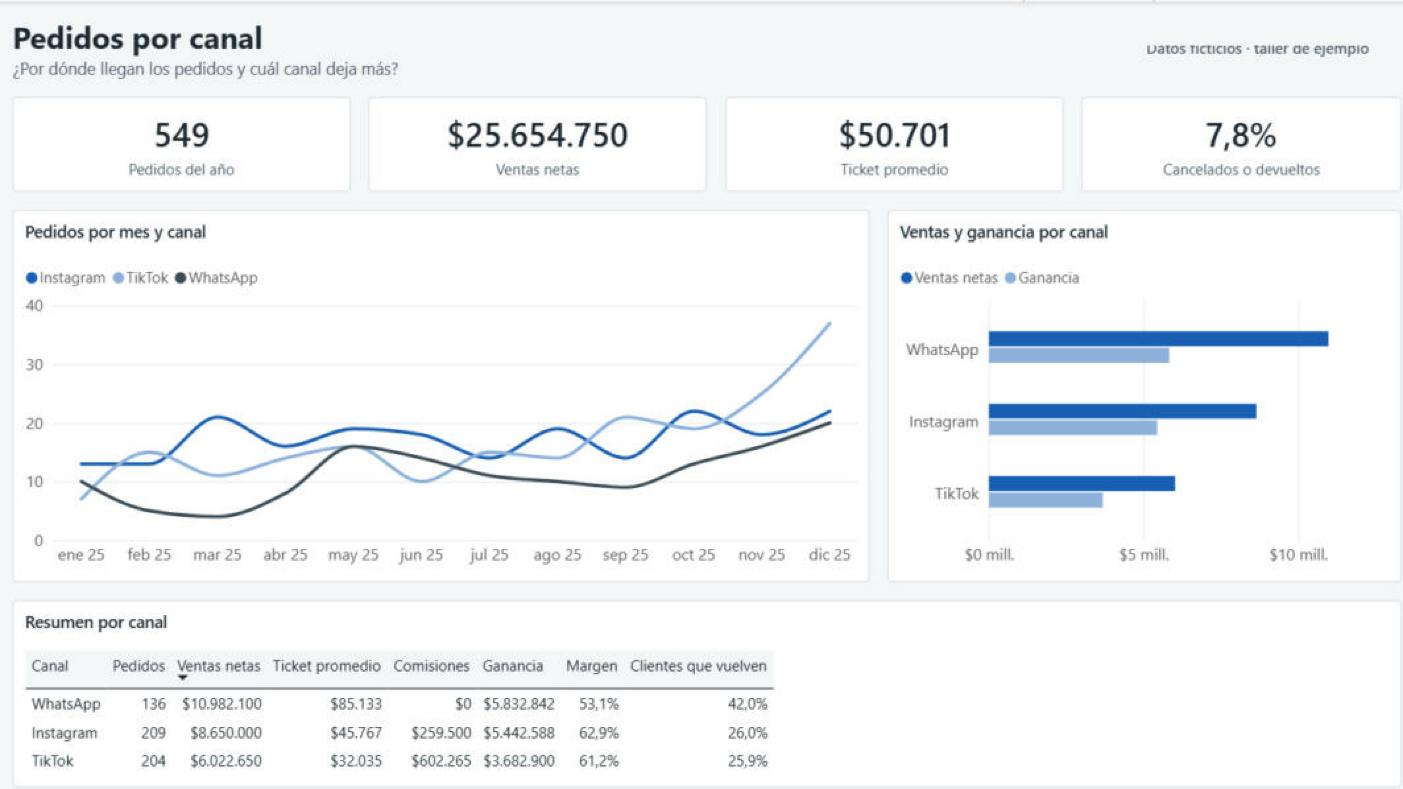

What the dashboard file says about the page in this screenshot:
{"tool":"powerbi","page":{"name":"Pedidos por canal","canvas":[1280,720],"ordinal":3},"visuals":[{"type":"textbox","box":[24,12,900,64],"z":0},{"type":"card","fields":{"Values":["Medidas.Origen de los datos"]},"box":[1000,12,256,56],"z":1000},{"type":"card","fields":{"Values":["Medidas.Pedidos"]},"box":[24,84,300,84],"z":2000},{"type":"card","fields":{"Values":["Medidas.Ventas netas"]},"box":[340,84,300,84],"z":3000},{"type":"card","fields":{"Values":["Medidas.Ticket promedio"]},"box":[656,84,300,84],"z":4000},{"type":"card","fields":{"Values":["Medidas.% cancelados o devueltos"]},"box":[972,84,284,84],"z":5000},{"type":"lineChart","title":"Pedidos por mes y canal","fields":{"Category":["Calendario.Mes"],"Series":["Pedidos.canal"],"Y":["Medidas.Pedidos"]},"box":[24,184,760,330],"z":6000},{"type":"clusteredBarChart","title":"Ventas y ganancia por canal","fields":{"Category":["Pedidos.canal"],"Y":["Medidas.Ventas netas","Medidas.Ganancia"]},"box":[800,184,456,330],"z":7000},{"type":"tableEx","title":"Resumen por canal","fields":{"Values":["Pedidos.canal","Medidas.Pedidos entregados","Medidas.Ventas netas","Medidas.Ticket promedio","Medidas.Comisiones","Medidas.Ganancia","Medidas.Margen %","Medidas.Clientes que vuelven %"]},"box":[24,530,1232,166],"z":8000}]}

Visuals, with their boxes in screenshot pixels (x1, y1, x2, y2), scaled from the page's 1280x720 canvas onto the 1403x789 screenshot:
textbox: crop(26, 13, 1013, 83)
card - Medidas.Origen de los datos: crop(1096, 13, 1377, 75)
card - Medidas.Pedidos: crop(26, 92, 355, 184)
card - Medidas.Ventas netas: crop(373, 92, 702, 184)
card - Medidas.Ticket promedio: crop(719, 92, 1048, 184)
card - Medidas.% cancelados o devueltos: crop(1065, 92, 1377, 184)
"Pedidos por mes y canal" lineChart: crop(26, 202, 859, 563)
"Ventas y ganancia por canal" clusteredBarChart: crop(877, 202, 1377, 563)
"Resumen por canal" tableEx: crop(26, 581, 1377, 763)
